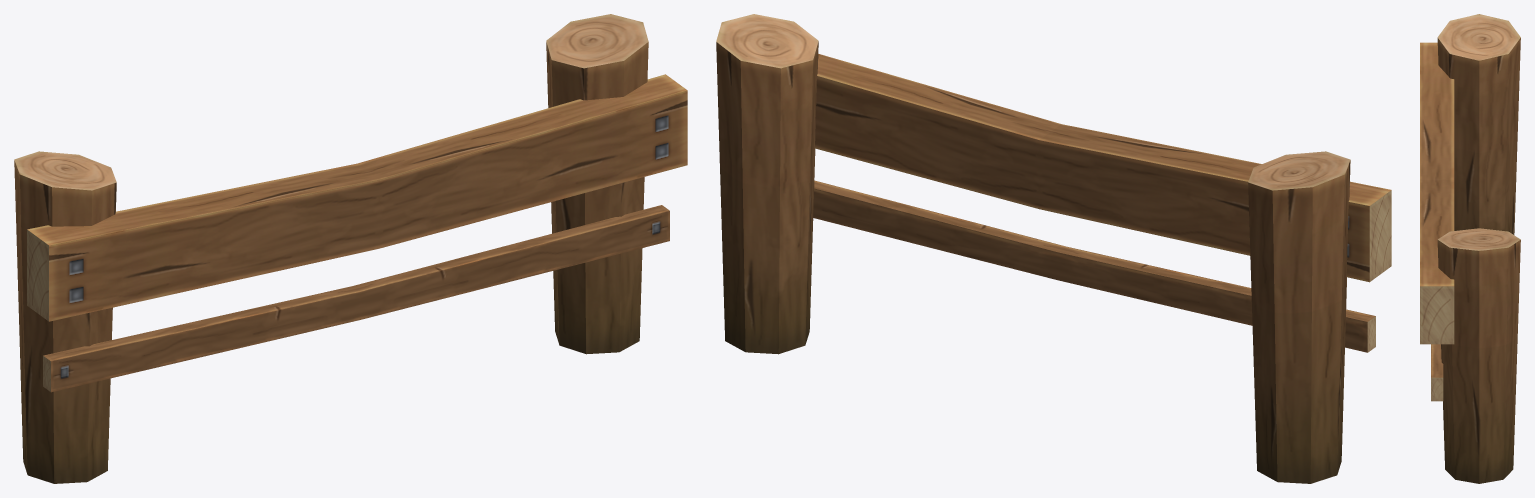
File: wooden_fence_21.fbx
3 renders of one model, left to right at view 1: azimuth 30°, elevation 25°; view 2: azimuth 150°, elevation 25°; view 3: azimuth 270°, elevation 25°, orthographic. The views are drawn at different scales.
Parts seen in each view (by area): view 1: wooden_fence_21:Mesh; view 2: wooden_fence_21:Mesh; view 3: wooden_fence_21:Mesh.
Part boxes in pixels (x1,y1,x2,y2): wooden_fence_21:Mesh: (14,14,687,483); wooden_fence_21:Mesh: (716,14,1391,483); wooden_fence_21:Mesh: (1420,14,1520,483).
Bounding box in the file's own units: 6.53 × 2.96 × 1.15.
